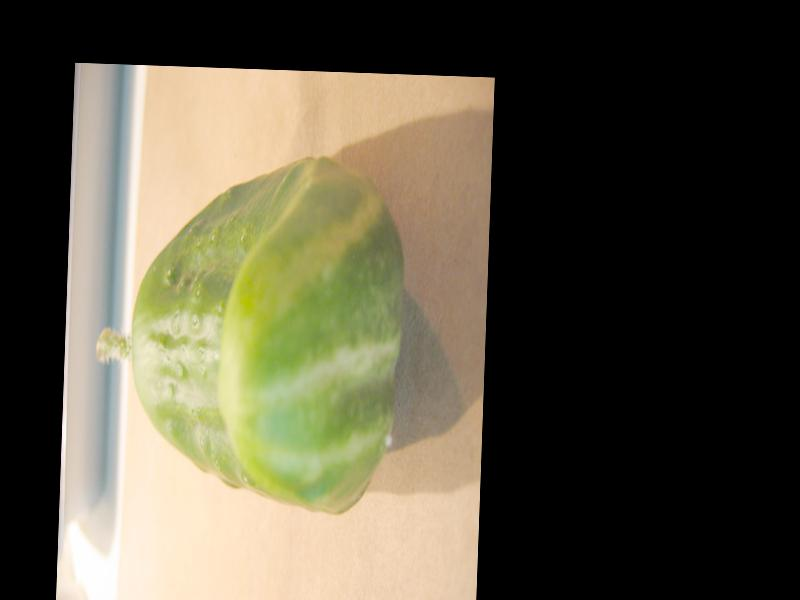Cucumber: (89, 152, 409, 519)
